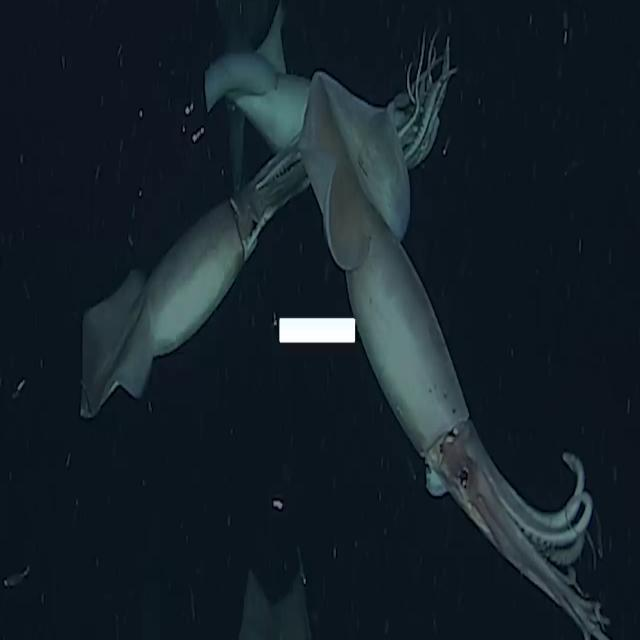squid: (299, 72, 615, 640), (82, 153, 306, 419)
